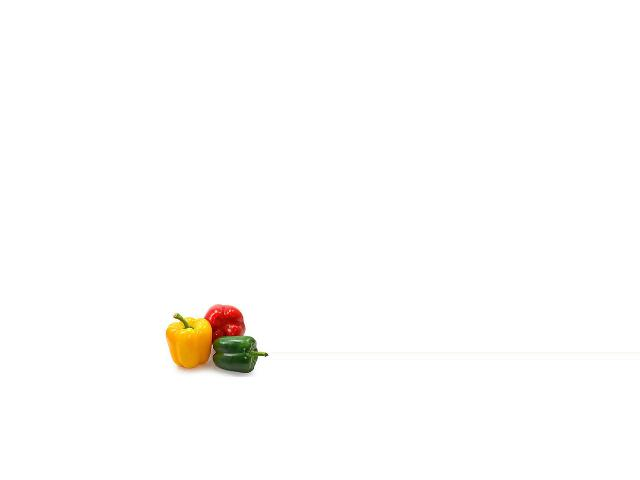bell_pepper: (203, 330, 263, 373)
